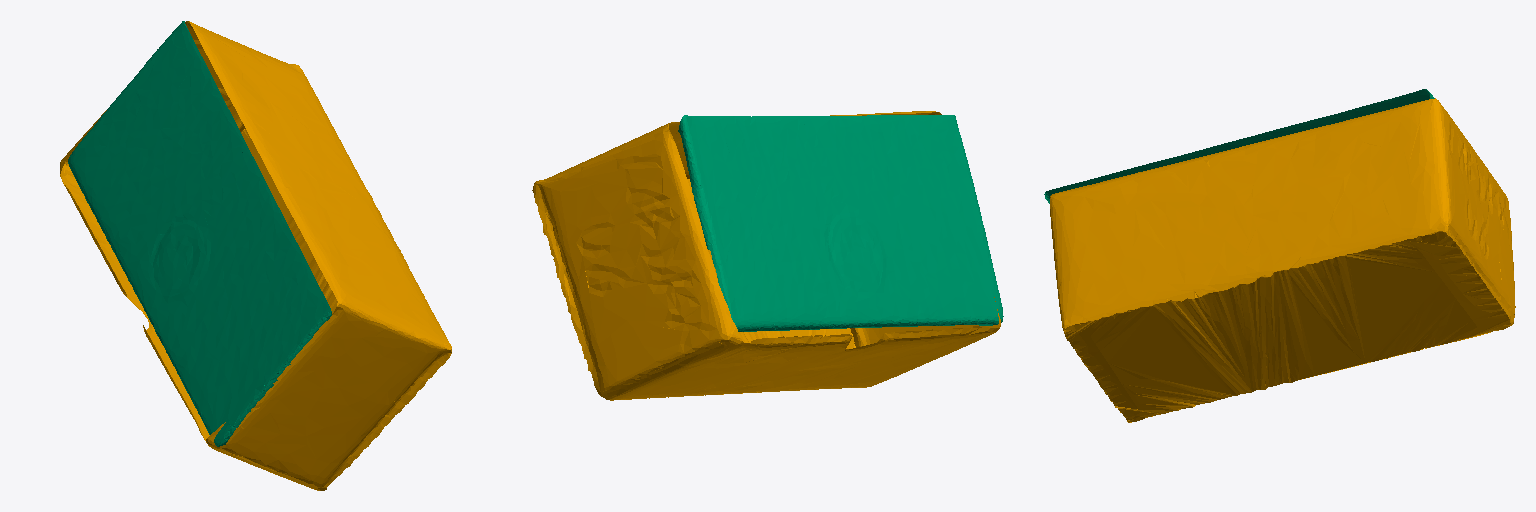
robot.urdf — cardboardbox:
<?xml version="1.0"?>
<robot name="cardboardbox">
  <link name ="rb0">
    <visual>
      <origin xyz='0.037667 0.010293 -0.169514' rpy='-2.514053 -0.324703 1.431376'/>
      <geometry>
        <mesh filename="meshes/cardboardbox_bottom.obj"  scale="1 1 1" />
      </geometry>
    </visual>

     <collision>
      <origin xyz='0.037667 0.010293 -0.169514' rpy='-2.514053 -0.324703 1.431376'/>
      <geometry>
        <mesh filename="meshes/cardboardbox_bottom.obj"  scale="1 1 1" />
      </geometry>
    </collision>

  </link>
  <joint name="j_0_1" type="revolute">
    <parent link="rb0"/>
    <child link="rb1"/>
    <origin xyz="-0.0615841466421 -0.0775216691405 -0.0586552473718" rpy="0 0 0 "/>
    <axis xyz="0.149107285032 0.920712529679 0.360632021932"/>
    <limit effort="30" velocity="1.0" lower="-3.1416" upper="3.1416"/>
  </joint>
  <joint name="j_0_fixed" type="fixed">
    <parent link="rb1"/>
    <child link="rb1_marker"/>
      <origin xyz="-0.0594711418973 0.0346995147075 -0.0624429037197" rpy="1.00147710701 0.315600627265 -1.6846440587"/>
    <limit effort="30" velocity="1.0" lower="-3.1416" upper="3.1416"/>
  </joint>
  <link name ="rb1">
  </link>
  <link name ="rb1_marker">
    <visual>
      <origin xyz='-0.054889 0.057476 -0.114443' rpy='-1.958043 0.012849 3.102324'/>
      <geometry>
        <mesh filename="meshes/cardboardbox_top.obj"  scale="1 1 1" />
      </geometry>
    </visual>

    <collision>
      <origin xyz='-0.054889 0.057476 -0.114443' rpy='-1.958043 0.012849 3.102324'/>
      <geometry>
        <mesh filename="meshes/cardboardbox_top.obj"  scale="1 1 1" />
      </geometry>
    </collision>

  </link>
</robot>

--- What the picture shows (computed from the rendered views, not written in the file) ---
Views: 3 orthographic renders of the robot side by side, from view 1: azimuth 30°, elevation 25°; view 2: azimuth 150°, elevation 25°; view 3: azimuth 270°, elevation 25°.
Model cardboardbox with 3 links and 2 joints (1 revolute, 1 fixed), rooted at rb0, posed all joints at 0.
Visible links, largest first — view 1: rb1_marker, rb0; view 2: rb1_marker, rb0; view 3: rb0, rb1_marker.
Link boxes in pixels (x1,y1,x2,y2): rb1_marker: (68, 21, 331, 446); rb0: (60, 21, 451, 490); rb1_marker: (678, 115, 1003, 331); rb0: (532, 111, 1000, 400); rb0: (1050, 98, 1515, 422); rb1_marker: (1044, 89, 1434, 203).
Size in the robot's own frame: 0.1499 by 0.2442 by 0.1957 metres.
Meshes: 2 distinct files referenced, 2 mesh visuals loaded (2 OBJ).